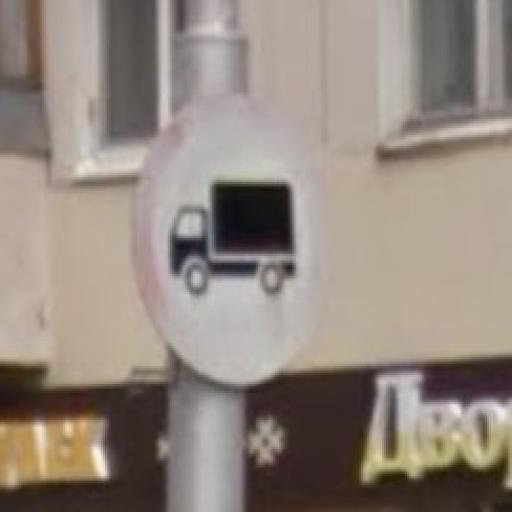traffic_sign: (131, 91, 330, 389)
